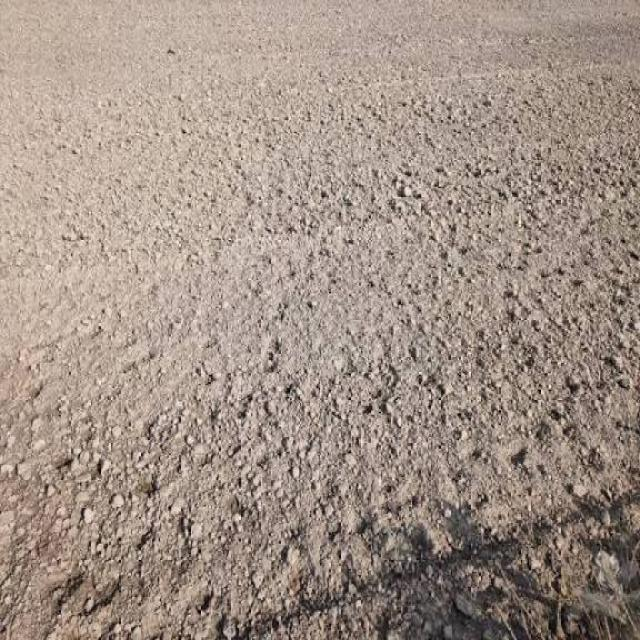suelo_seco: (155, 145, 473, 586)
